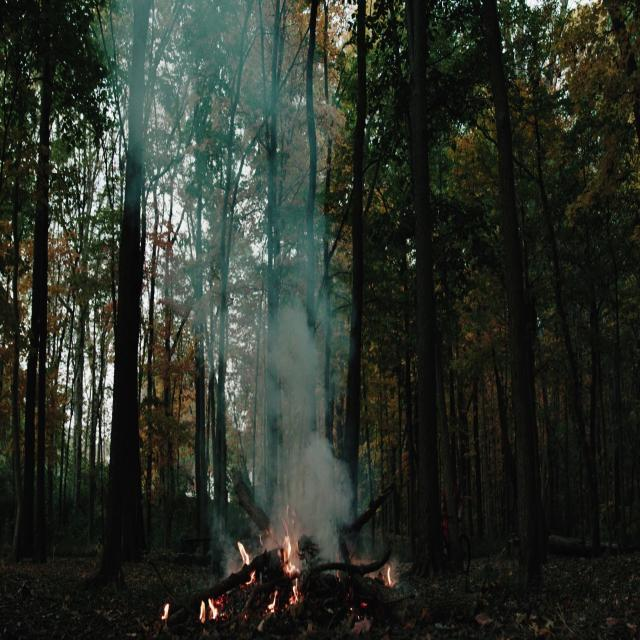Fire: (268, 521, 308, 618), (198, 588, 224, 628)
Smoke: (121, 2, 358, 554)
